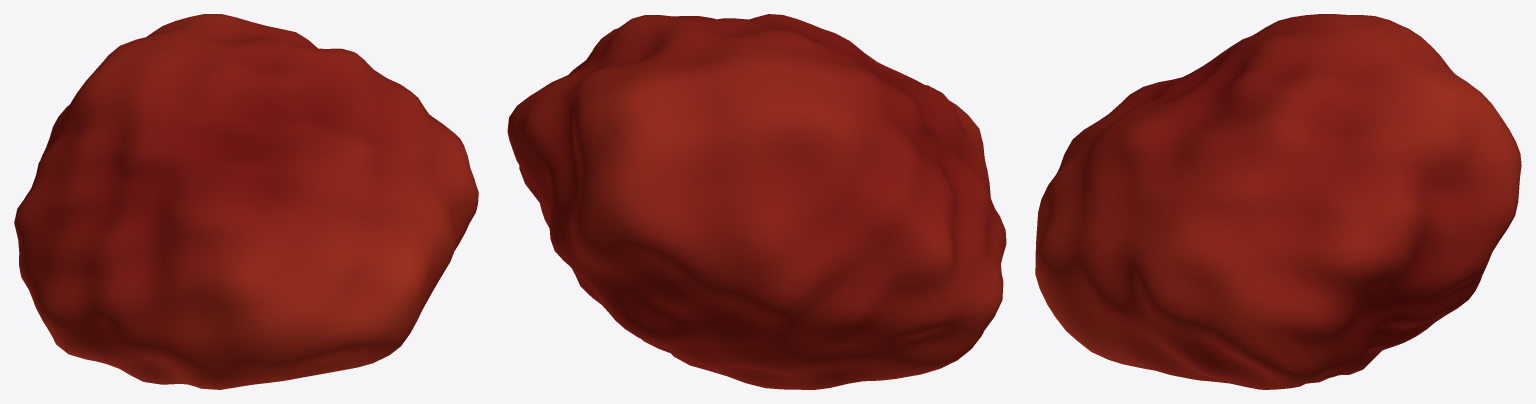
The model's file is stone_blood.glb.
3 renders of one model, left to right at view 1: azimuth 30°, elevation 25°; view 2: azimuth 150°, elevation 25°; view 3: azimuth 270°, elevation 25°, orthographic. The views are drawn at different scales.
Parts seen in each view (by area): view 1: stone_blood; view 2: stone_blood; view 3: stone_blood.
Boxes of the visible parts, bbox=[...] form: stone_blood: bbox=[14, 14, 478, 389]; stone_blood: bbox=[507, 14, 1006, 389]; stone_blood: bbox=[1035, 14, 1521, 389].
Bounding box in the file's own units: 0.08 × 0.0552 × 0.075.
